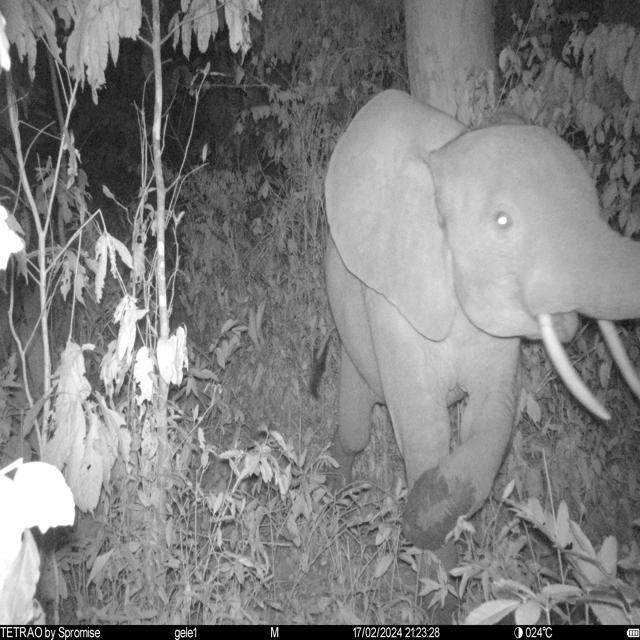ear: (324, 90, 471, 342)
elephant: (309, 85, 639, 622)
tusk: (536, 312, 610, 420), (598, 316, 640, 400)
